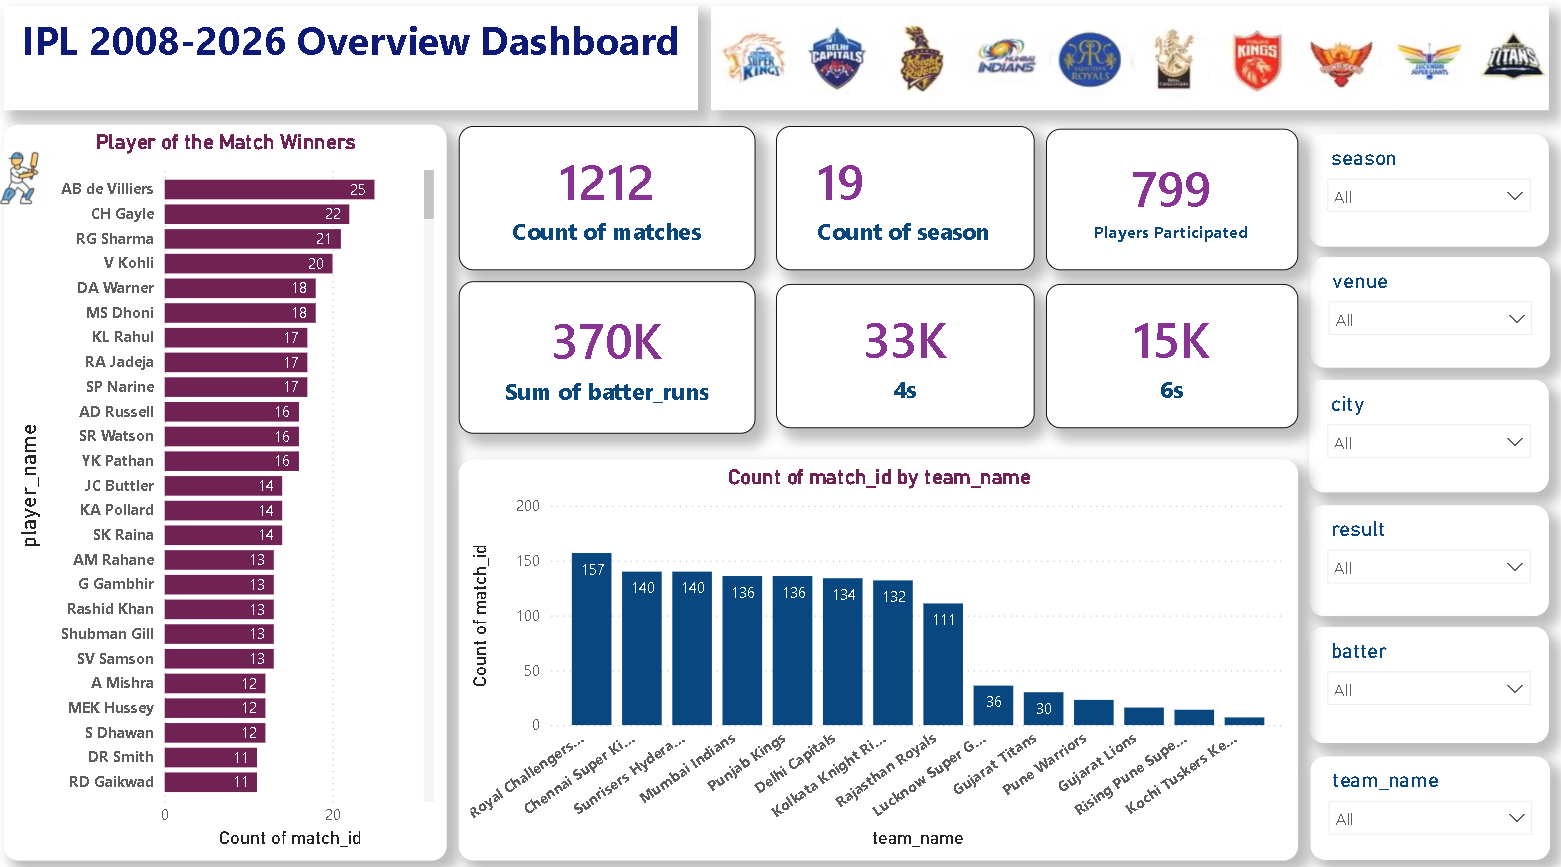

Layout of this report page (visuals, bound fields, positions):
{"tool":"powerbi","page":{"name":"Dashboard Part - 2","canvas":[1280,720],"ordinal":1},"visuals":[{"type":"textbox","box":[9.1,11.7,567,85.4],"z":0},{"type":"image","box":[586.4,11.7,683.5,85.4],"z":1000},{"type":"barChart","title":"Player of the Match Winners ","fields":{"Category":["players-data-updated.player_name"],"Y":["CountNonNull(ipl_matches_data.match_id)"]},"box":[9.1,108.7,361.2,600.7],"z":2000},{"type":"slicer","fields":{"Values":["ipl_matches_data.season"]},"box":[1074.5,116.5,195.5,91.9],"z":3000},{"type":"image","box":[0,55.7,47.9,194.2],"z":4000},{"type":"slicer","fields":{"Values":["ipl_matches_data.venue"]},"box":[1075.8,217.5,195.5,90.6],"z":5000},{"type":"slicer","fields":{"Values":["ipl_matches_data.city"]},"box":[1074.5,317.2,195.5,91.9],"z":6000},{"type":"slicer","fields":{"Values":["ipl_matches_data.result"]},"box":[1074.5,419.4,195.5,90.6],"z":7000},{"type":"cardVisual","fields":{"Data":["CountNonNull(ipl_matches_data.match_id)"]},"box":[380.6,110,242.1,117.8],"z":8000},{"type":"cardVisual","fields":{"Data":["Count(ipl_matches_data.season)"]},"box":[639.5,110,211,117.8],"z":9000},{"type":"cardVisual","fields":{"Data":["CountNonNull(players-data-updated.player_id)"]},"box":[859.6,112.6,205.8,115.2],"z":10000},{"type":"cardVisual","fields":{"Data":["Sum(ball_by_ball_data.batter_runs)"]},"box":[380.6,236.9,242.1,124.3],"z":11000},{"type":"slicer","fields":{"Values":["ball_by_ball_data.batter"]},"box":[1074.5,519.1,195.5,94.5],"z":12000},{"type":"cardVisual","fields":{"Data":["ball_by_ball_data.4s"]},"box":[639.5,239.5,211,117.8],"z":13000},{"type":"cardVisual","fields":{"Data":["ball_by_ball_data.6s"]},"box":[859.6,239.5,205.8,117.8],"z":14000},{"type":"clusteredColumnChart","fields":{"Category":["teams_data.team_name"],"Y":["Count(ball_by_ball_data.match_id)"]},"box":[380.6,381.9,684.8,327.5],"z":15000},{"type":"slicer","fields":{"Values":["teams_data.team_name"]},"box":[1075.8,625.3,195.5,84.1],"z":16000}]}

Visuals, with their boxes in screenshot pixels (x1, y1, x2, y2), scaled from the page's 1280x720 canvas onto the 1561x867 screenshot:
textbox: 11/14/703/117
image: 715/14/1549/117
"Player of the Match Winners " barChart: 11/131/452/854
slicer - ipl_matches_data.season: 1310/140/1549/251
image: 0/67/58/301
slicer - ipl_matches_data.venue: 1312/262/1550/371
slicer - ipl_matches_data.city: 1310/382/1549/493
slicer - ipl_matches_data.result: 1310/505/1549/614
cardVisual - CountNonNull(ipl_matches_data.match_id): 464/132/759/274
cardVisual - Count(ipl_matches_data.season): 780/132/1037/274
cardVisual - CountNonNull(players-data-updated.player_id): 1048/136/1299/274
cardVisual - Sum(ball_by_ball_data.batter_runs): 464/285/759/435
slicer - ball_by_ball_data.batter: 1310/625/1549/739
cardVisual - ball_by_ball_data.4s: 780/288/1037/430
cardVisual - ball_by_ball_data.6s: 1048/288/1299/430
clusteredColumnChart - teams_data.team_name x Count(ball_by_ball_data.match_id): 464/460/1299/854
slicer - teams_data.team_name: 1312/753/1550/854
